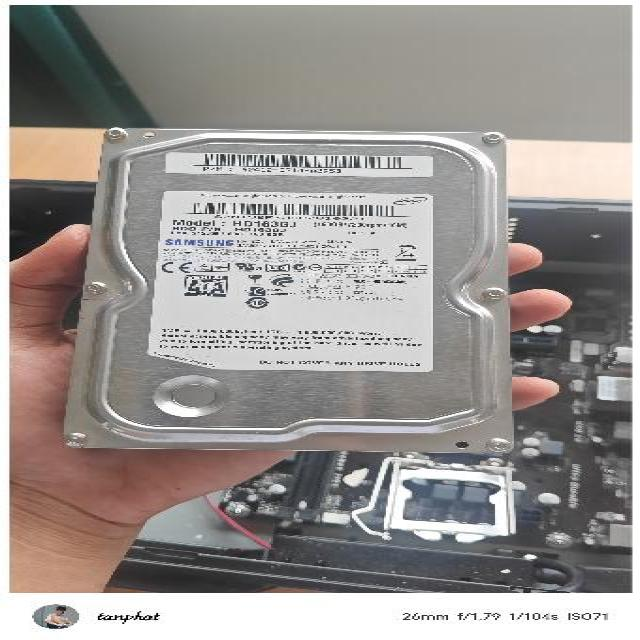DISK: (59, 122, 519, 452)
